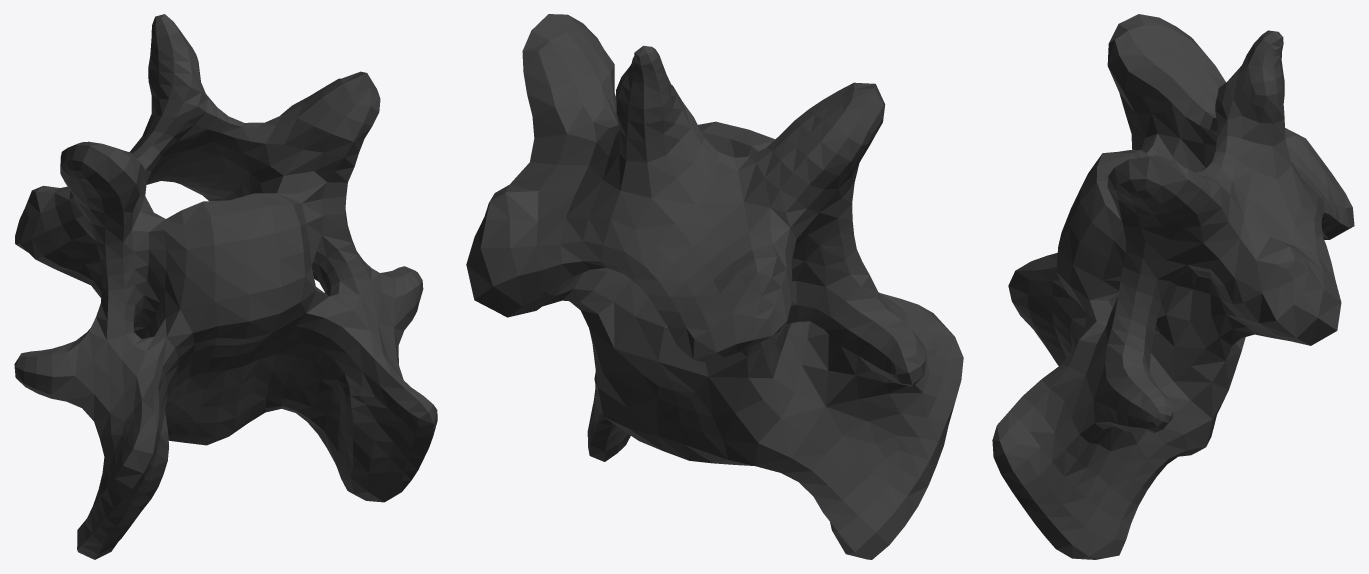
3 views of the same model, side by side, from view 1: azimuth 30°, elevation 25°; view 2: azimuth 150°, elevation 25°; view 3: azimuth 270°, elevation 25° (orthographic). The views are drawn at different scales.
Visible parts, largest first — view 1: C6; view 2: C6; view 3: C6.
Boxes of the visible parts, x1,y1,x2,y2 form: C6: (14,14,437,559); C6: (466,14,963,559); C6: (992,14,1354,559).
Size of the model in its own units: 2.82 by 3.16 by 2.14.
1 material, 1 textured.
